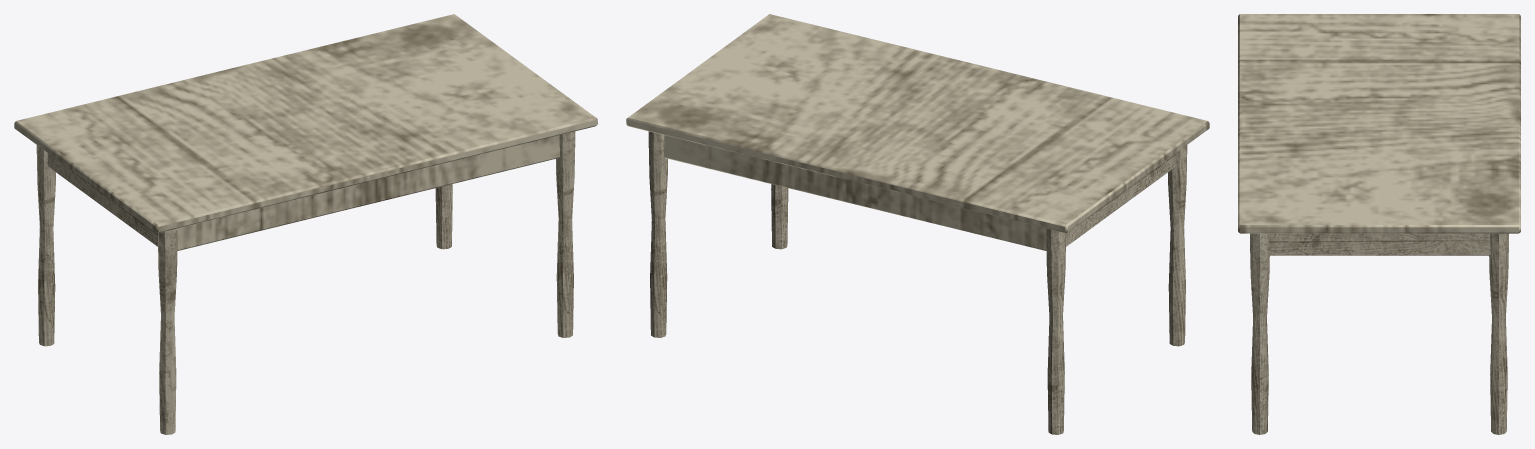
Rendered from KitchenTable.fbx.
The picture shows the model from 3 angles, left to right: view 1: azimuth 30°, elevation 25°; view 2: azimuth 150°, elevation 25°; view 3: azimuth 270°, elevation 25°; orthographic projection.
Visible parts, largest first — view 1: KitchenTable; view 2: KitchenTable; view 3: KitchenTable.
Boxes of the visible parts, left/top/right/bottom form: KitchenTable: left=14, top=14, right=597, bottom=434; KitchenTable: left=626, top=14, right=1209, bottom=434; KitchenTable: left=1238, top=14, right=1520, bottom=434.
Bounding box in the file's own units: 1.6 × 0.76 × 0.9.
